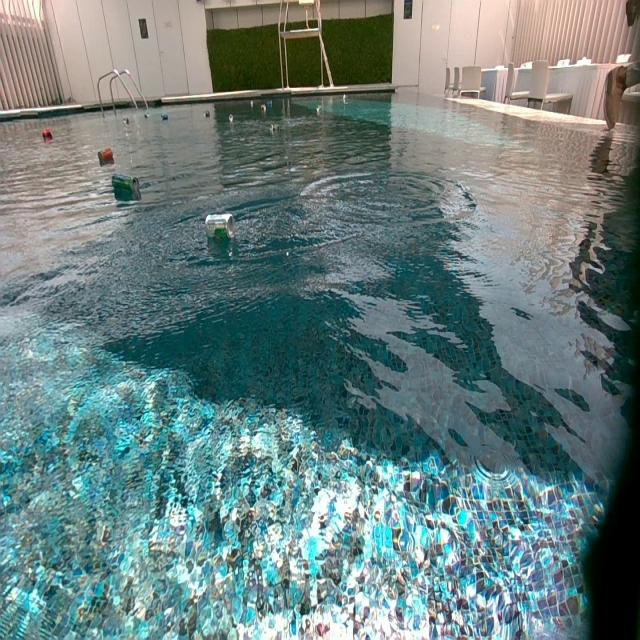Cans: (206, 213, 234, 241), (111, 172, 138, 198), (97, 148, 115, 168), (41, 130, 53, 142), (270, 124, 280, 137), (161, 112, 170, 122), (341, 94, 348, 104), (143, 112, 150, 120), (204, 110, 210, 119), (266, 99, 272, 108), (124, 118, 131, 125), (317, 105, 322, 113), (260, 105, 266, 111), (250, 98, 255, 105), (229, 115, 234, 121)
